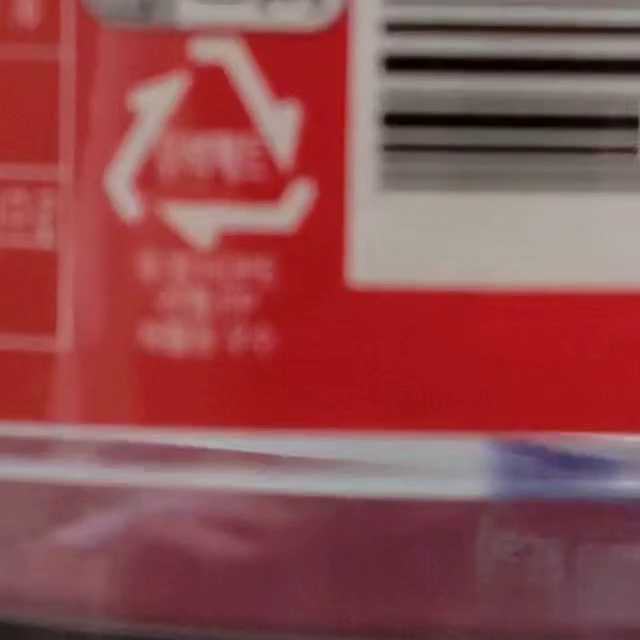ColorlessPet: (105, 43, 321, 251)
